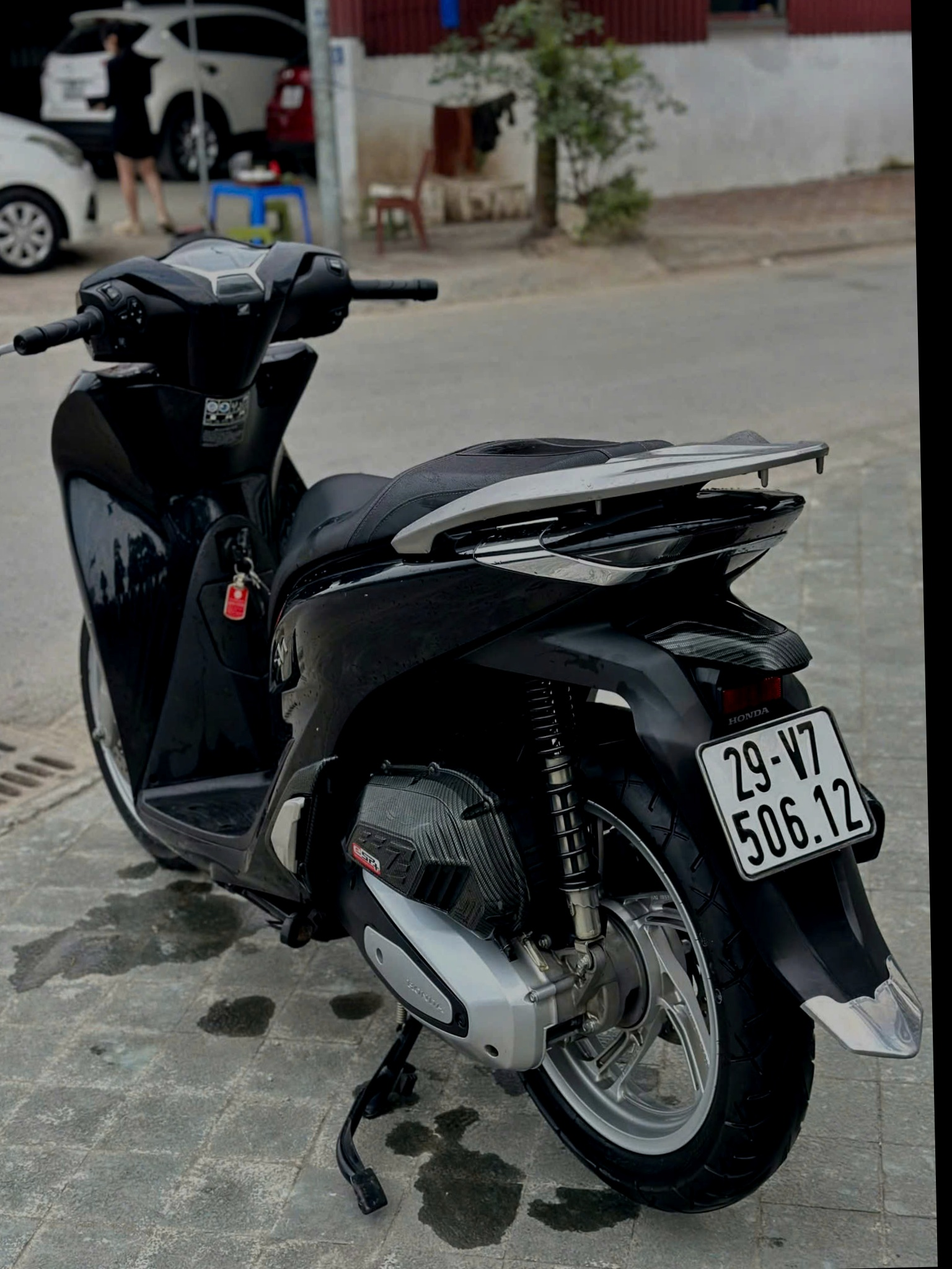Bien-so: (690, 715, 882, 893)
